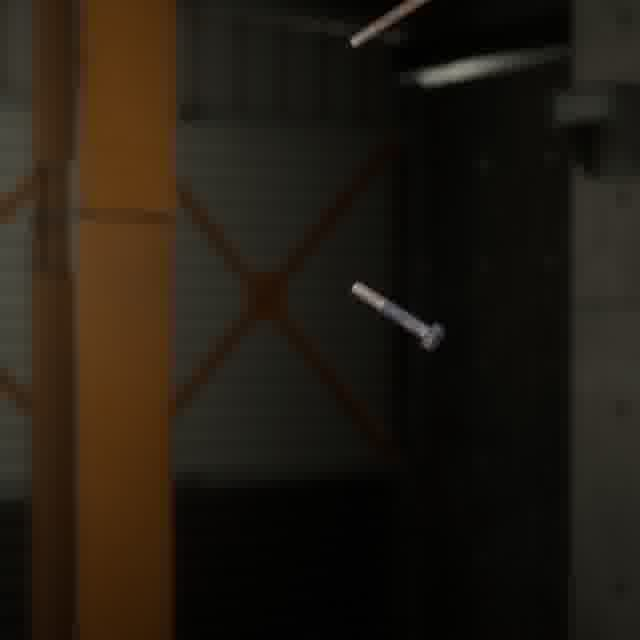bolt: (346, 277, 449, 355), (345, 0, 450, 52)
